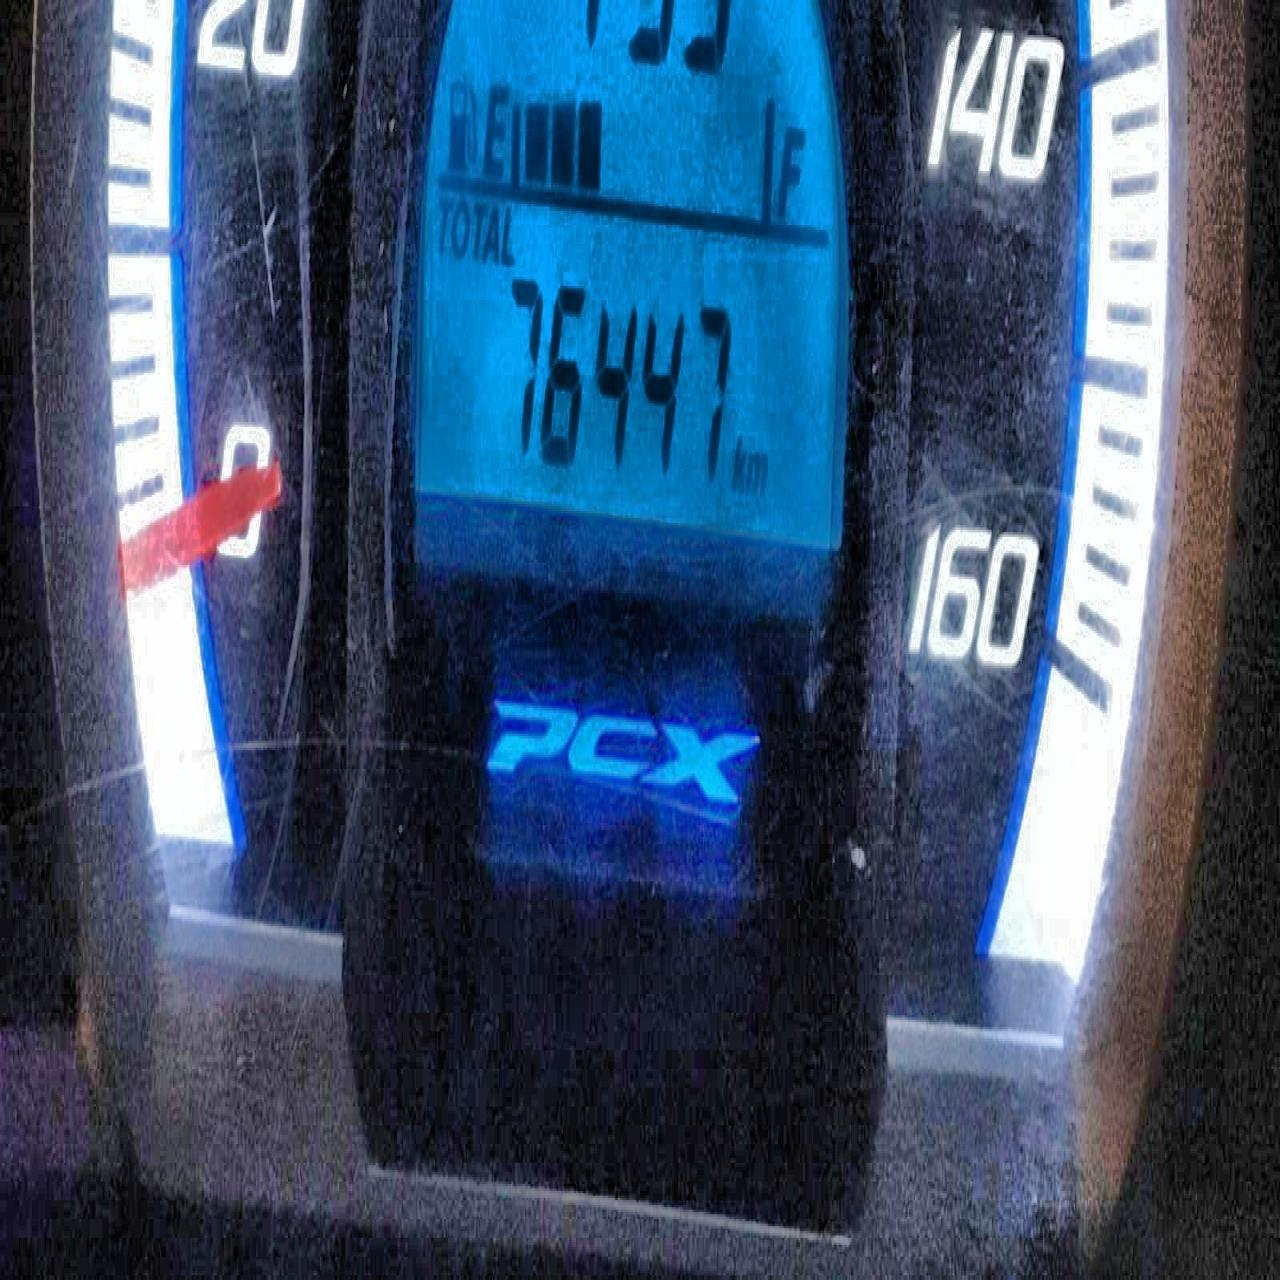4: (595, 286, 639, 467), (644, 288, 685, 478)
6: (540, 263, 586, 474)
7: (510, 267, 545, 469), (696, 288, 731, 481)
X: (479, 61, 512, 183), (776, 108, 804, 223), (747, 441, 768, 495), (435, 188, 452, 251), (471, 183, 486, 256), (501, 199, 517, 263), (452, 192, 469, 256), (485, 199, 501, 265), (733, 434, 747, 492)
odometer: (400, 0, 850, 546)
